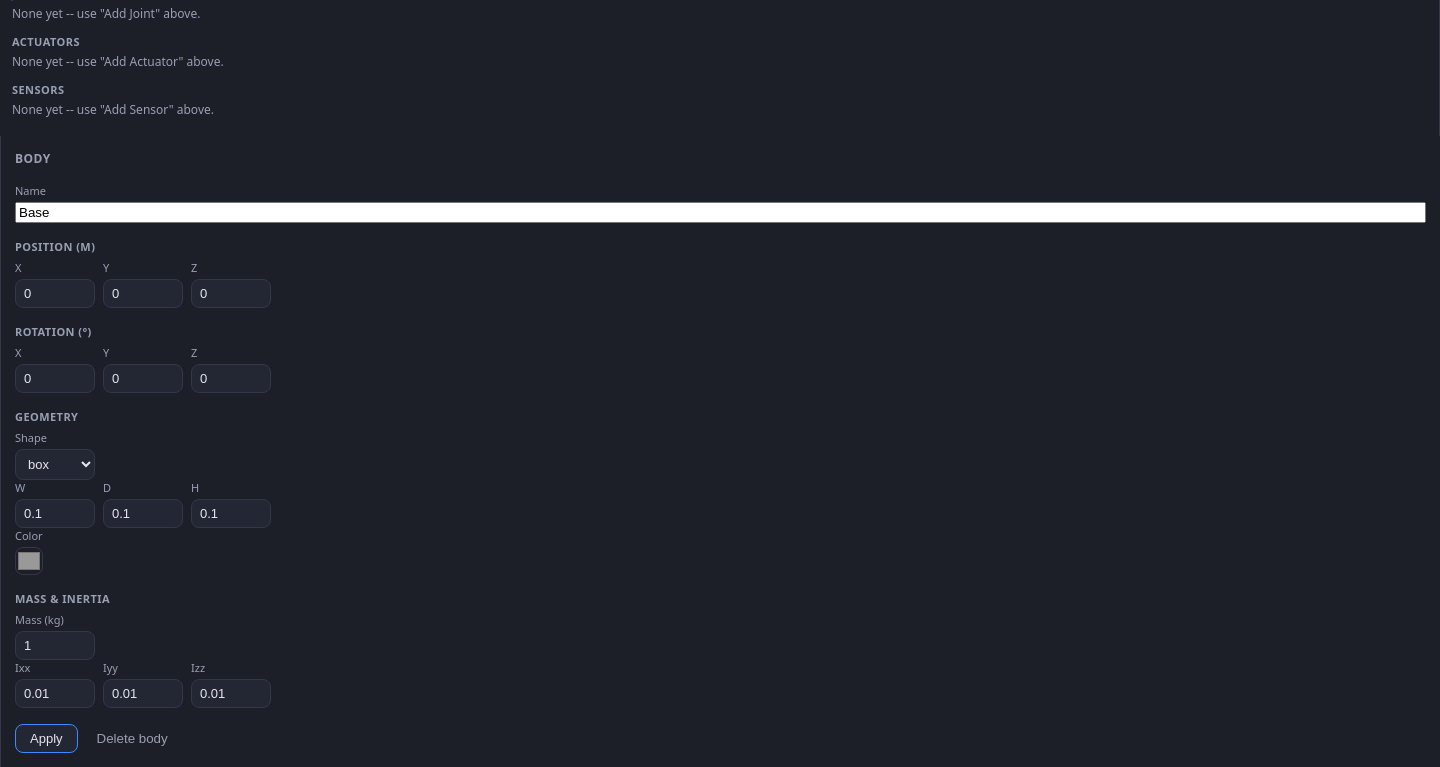
it: BuilderPanel › Delete body (two-click confirm) cascades correctly and clears selection
(page scrolled)
Click the button "Delete body".
click(132, 738)  # box [88,730,177,747]
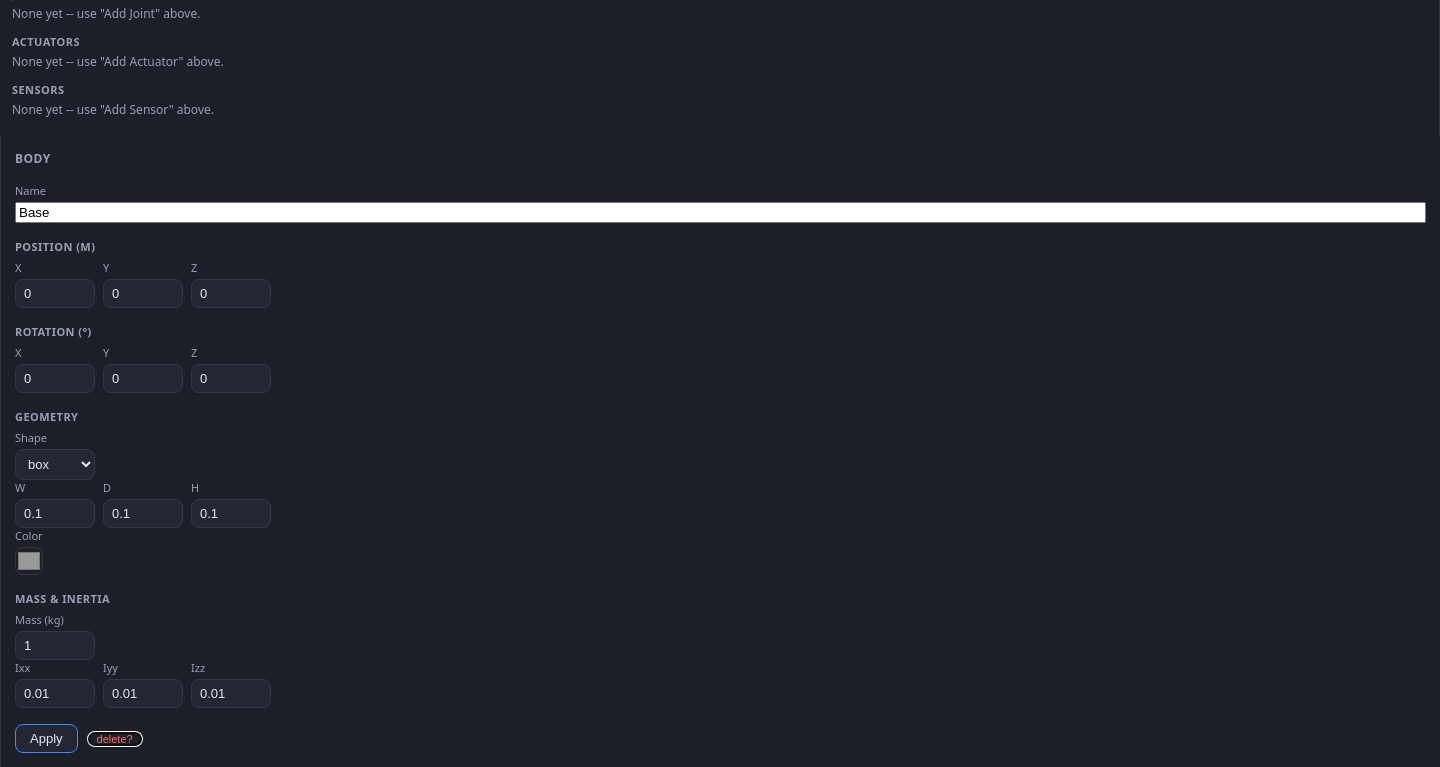
Click the button "delete?".
click(115, 738)  # box [88,732,142,746]
(page scrolled)
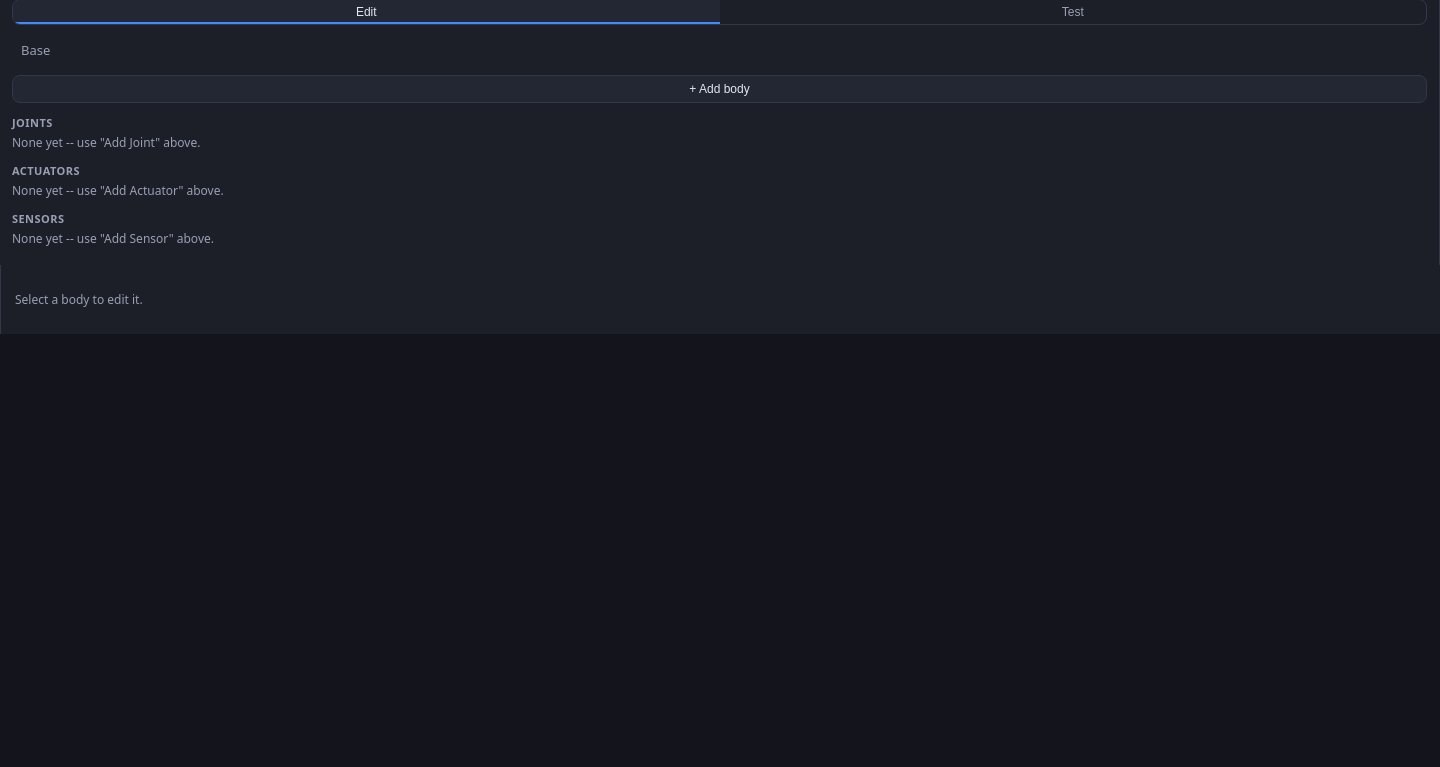
expect the text "Select a body to edit it." is shown: met, box [15,291,143,308]
